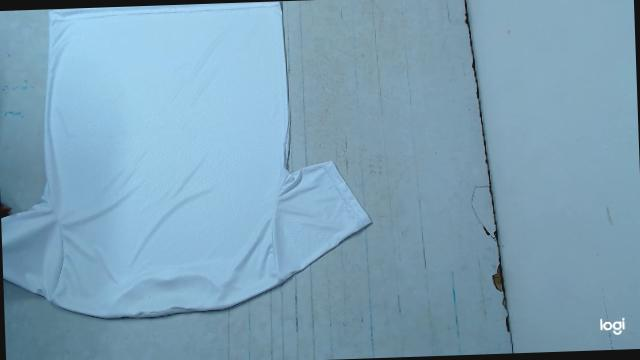new-garment: (1, 1, 370, 318)
